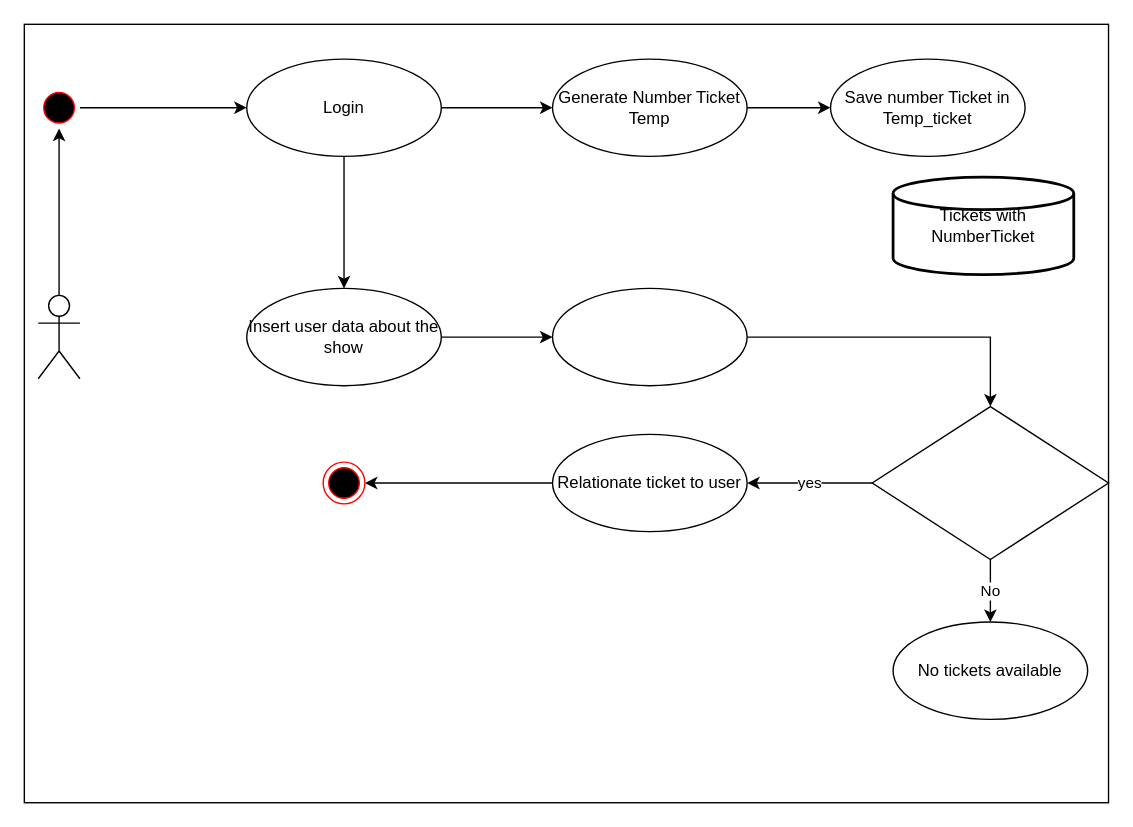
This 1133x827 diagram has some shape labels left out. Here are the shapes that lost their labels. From the top down, the centre of each, then its label:
[58,336]: User
[649,336]: Start Buy Ticket
[990,482]: Check if number is available in ticket database
